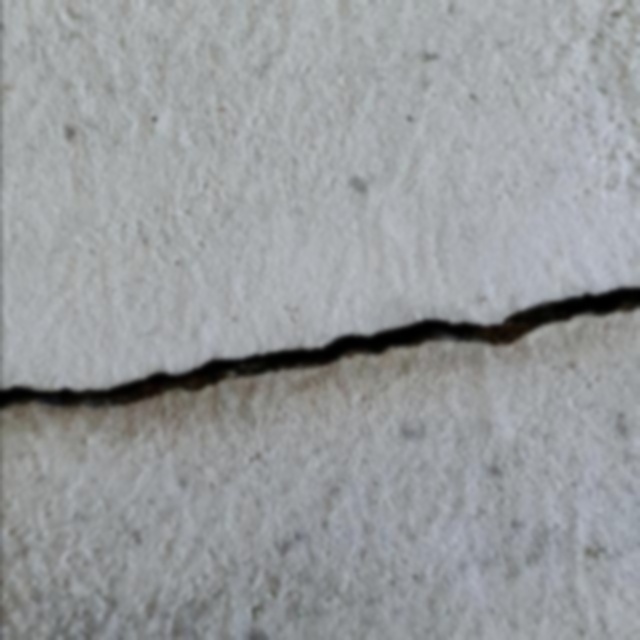SurfaceCrack: (0, 242, 639, 459)
